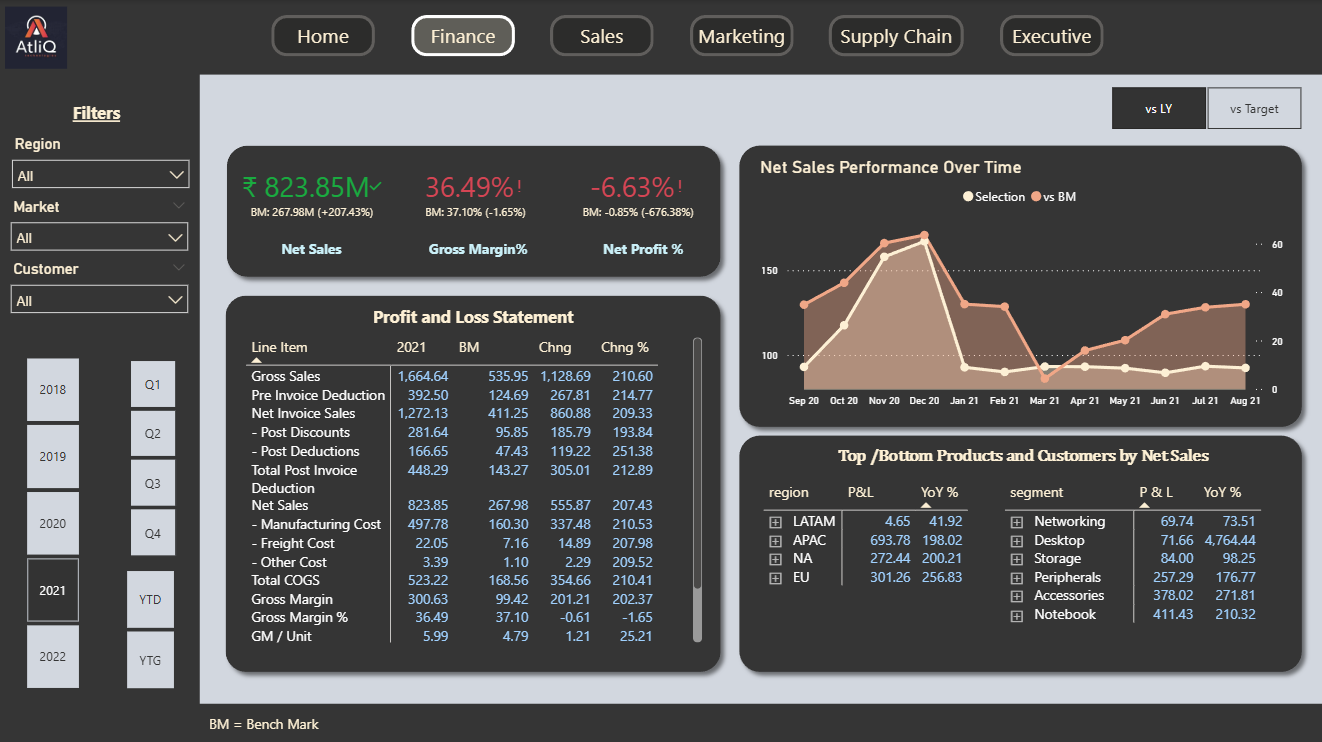

The dashboard page shown, as its layout file describes it:
{"tool":"powerbi","page":{"name":"Finance View","canvas":[1280,720],"ordinal":1},"visuals":[{"type":"shape","box":[0,0,1280,72.4],"z":0},{"type":"shape","box":[0,679.2,1280,41],"z":0,"group":"g1"},{"type":"shape","box":[0,0,193,720.2],"z":1000},{"type":"textbox","box":[196.6,684,147.2,31.4],"z":1000,"group":"g1"},{"type":"slicer","fields":{"Values":["gdb041 dim_market.market"]},"box":[0,185.8,191.8,60.3],"z":2000},{"type":"slicer","fields":{"Values":["gdb041 dim_customer.customer"]},"box":[0,246.1,191.8,59.1],"z":3000},{"type":"slicer","fields":{"Values":["gdb041 dim_market.region"]},"box":[1.2,125.5,191.8,60.3],"z":4000},{"type":"image","box":[0,0,70,72.4],"z":5000},{"type":"slicer","fields":{"Values":["fiscal_year.Fiscal Year"]},"box":[0,339,100.1,331.8],"z":6000},{"type":"slicer","fields":{"Values":["dim_date.Quaters"]},"box":[100.1,341.4,92.9,201.5],"z":7000},{"type":"slicer","fields":{"Values":["dim_date.ytd_ytg"]},"box":[96.5,544.1,95.3,126.7],"z":8000},{"type":"textbox","box":[65.1,92.9,65.1,32.6],"z":9000},{"type":"slicer","fields":{"Values":["NS BM.Benchmark "]},"box":[1047.1,77.2,232.8,54.3],"z":10000},{"type":"shape","box":[208.7,276.3,495.8,381.2],"z":11000},{"type":"shape","box":[704.6,411.4,561,246.1],"z":12000},{"type":"shape","box":[704.6,131.5,561,289.5],"z":13000},{"type":"shape","box":[209.9,131.5,494.6,144.8],"z":14000},{"type":"textbox","box":[292,289.5,329.4,32.6],"z":15000},{"type":"pivotTable","fields":{"Rows":["P&L rows.Line Item"],"Values":["Key Measures.P & L final value"],"Columns":["P&L columns.Col Headers"]},"box":[232.8,320.9,450,304],"z":16000},{"type":"areaChart","fields":{"Category":["dim_date.date"],"Y":["Key Measures.p&L values"],"Y2":["Key Measures.P&L BM"]},"box":[728.7,150.8,515.2,249.7],"z":17000},{"type":"pivotTable","fields":{"Rows":["gdb041 dim_market.region","gdb041 dim_market.market","gdb041 dim_customer.customer"],"Values":["Key Measures.p&L values","Key Measures.YoY %"]},"box":[732.3,460.9,222,174.9],"z":18000},{"type":"pivotTable","fields":{"Rows":["gdb041 dim_product.segment","gdb041 dim_product.category","gdb041 dim_product.product"],"Values":["Key Measures.p&L values","Key Measures.YoY %"]},"box":[965.2,460.9,278.7,187],"z":19000},{"type":"textbox","box":[761.3,425.9,448.8,33.8],"z":20000},{"type":"textbox","box":[553.8,225.6,133.9,30.2],"z":21000},{"type":"textbox","box":[232.8,225.6,135.1,30.2],"z":22000},{"type":"textbox","box":[392.7,225.6,136.3,30.2],"z":23000},{"type":"kpi","fields":{"Indicator":["Key Measures.Net Sales $"],"Goal":["Key Measures.NS BM $"],"TrendLine":["dim_date.Fiscal Year"]},"box":[220.8,146,160.5,79.6],"z":24000},{"type":"kpi","fields":{"TrendLine":["dim_date.Fiscal Year"],"Indicator":["Key Measures.GM %"],"Goal":["Key Measures.GM % BM"]},"box":[378.4,146,160,80],"z":25000},{"type":"kpi","fields":{"Goal":["Key Measures.NP % BM"],"TrendLine":["dim_date.Fiscal Year"],"Indicator":["Key Measures.Net Profit %"]},"box":[535.7,146,160.5,79.6],"z":26000},{"type":"actionButton","box":[261.8,14.7,100.1,39.8],"z":27000},{"type":"actionButton","box":[396.4,14.7,100.1,39.8],"z":28000},{"type":"actionButton","box":[531.1,14.7,100.1,39.8],"z":29000},{"type":"actionButton","box":[665.7,14.7,100.1,39.8],"z":30000},{"type":"actionButton","box":[800.4,14.7,130.3,39.8],"z":31000},{"type":"actionButton","box":[965.2,14.7,100.1,39.8],"z":32000},{"type":"group","id":"g1","title":"Footer","box":[0,679.2,1280,41],"z":33000}]}

Visuals, with their boxes in screenshot pixels (x1, y1, x2, y2), scaled from the page's 1280x720 canvas onto the 1322x742 screenshot:
shape: 0 0 1321 75
shape: 0 700 1321 741
shape: 0 0 199 741
textbox: 203 705 355 737
slicer - gdb041 dim_market.market: 0 191 198 254
slicer - gdb041 dim_customer.customer: 0 254 198 315
slicer - gdb041 dim_market.region: 1 129 199 191
image: 0 0 72 75
slicer - fiscal_year.Fiscal Year: 0 349 103 691
slicer - dim_date.Quaters: 103 352 199 559
slicer - dim_date.ytd_ytg: 100 561 198 691
textbox: 67 96 134 129
slicer - NS BM.Benchmark : 1081 80 1321 136
shape: 216 285 728 678
shape: 728 424 1307 678
shape: 728 136 1307 434
shape: 217 136 728 285
textbox: 302 298 642 332
pivotTable - P&L rows.Line Item x Key Measures.P & L final value: 240 331 705 644
areaChart - dim_date.date x Key Measures.p&L values: 753 155 1285 413
pivotTable - gdb041 dim_market.region x gdb041 dim_market.market: 756 475 986 655
pivotTable - gdb041 dim_product.segment x gdb041 dim_product.category: 997 475 1285 668
textbox: 786 439 1250 474
textbox: 572 232 710 264
textbox: 240 232 380 264
textbox: 406 232 546 264
kpi - Key Measures.Net Sales $ x Key Measures.NS BM $: 228 150 394 232
kpi - dim_date.Fiscal Year x Key Measures.GM %: 391 150 556 233
kpi - Key Measures.NP % BM x dim_date.Fiscal Year: 553 150 719 232
actionButton: 270 15 374 56
actionButton: 409 15 513 56
actionButton: 549 15 652 56
actionButton: 688 15 791 56
actionButton: 827 15 961 56
actionButton: 997 15 1100 56
"Footer" group: 0 700 1321 741
